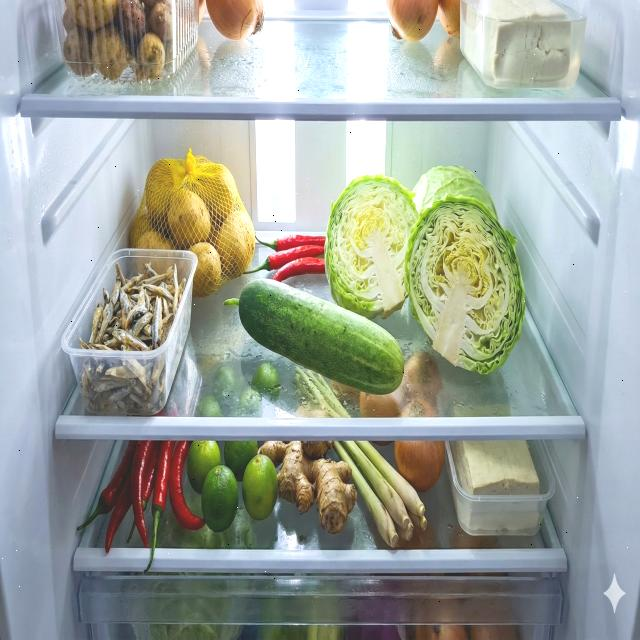anchovies: (79, 262, 187, 412)
cabbage: (404, 197, 526, 377), (323, 175, 418, 321), (410, 165, 500, 220)
chili: (76, 440, 206, 573), (242, 232, 326, 282)
cucumber: (238, 280, 404, 395)
ginger: (256, 438, 358, 536)
lemongrass: (294, 366, 428, 550)
lime: (187, 440, 278, 534)
onion: (394, 398, 446, 492)
potato: (130, 156, 256, 294)
tofu: (464, 0, 572, 82), (449, 439, 540, 532)
